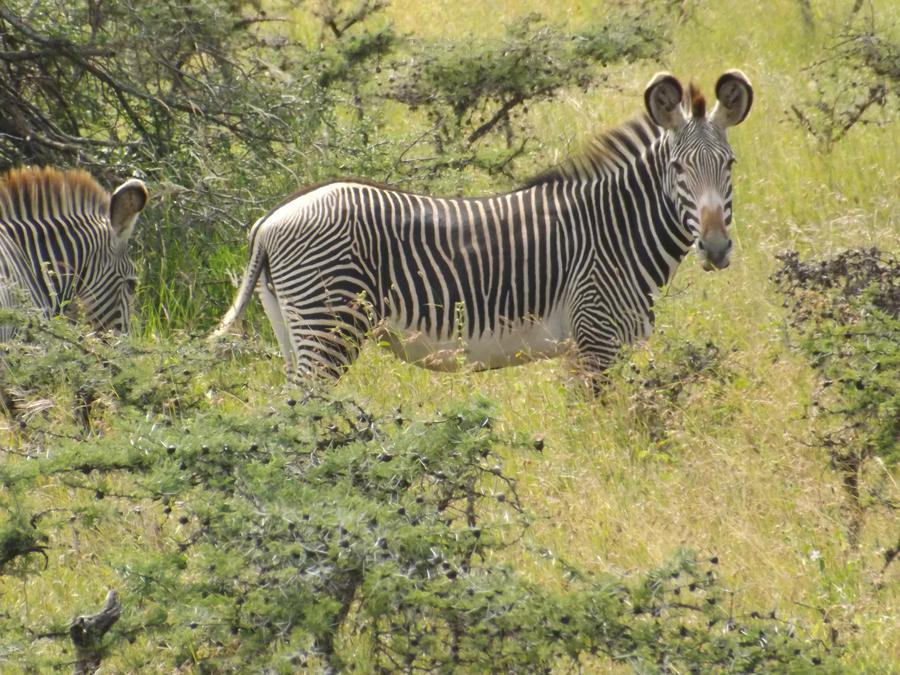zebra_grevys: (251, 178, 658, 336)
